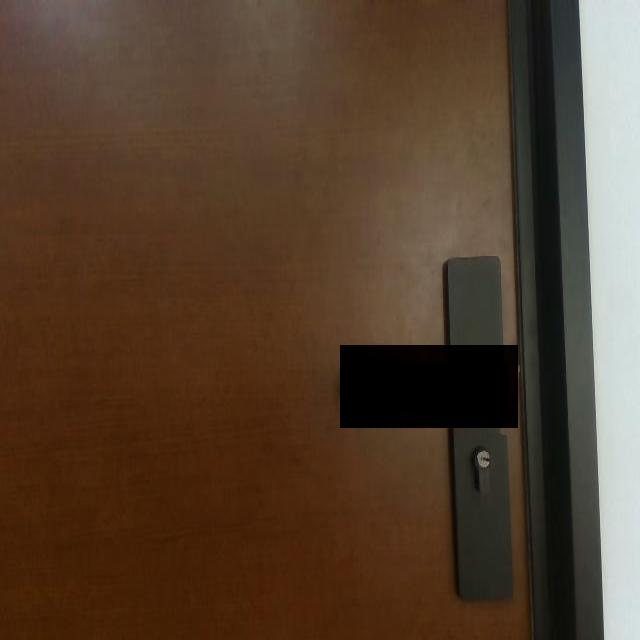doorhandle: (340, 345, 518, 428)
